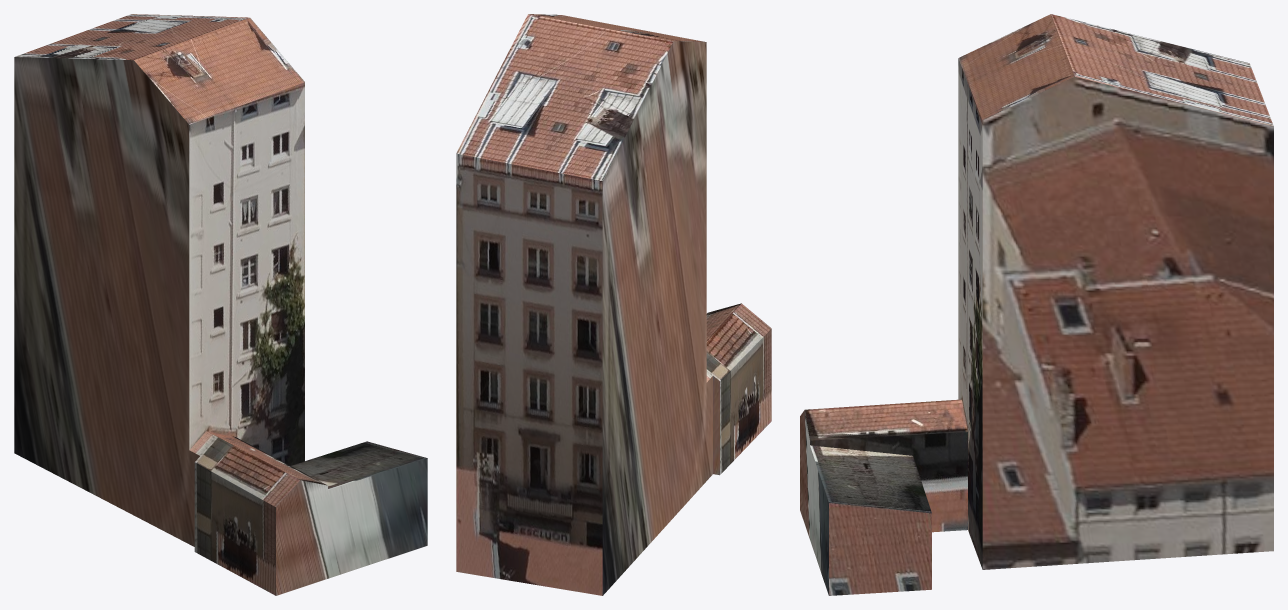
The picture shows the model from 3 angles, left to right: view 1: azimuth 30°, elevation 25°; view 2: azimuth 150°, elevation 25°; view 3: azimuth 270°, elevation 25°; orthographic projection. The views are drawn at different scales.
Visible parts, largest first — view 1: Z_UP; view 2: Z_UP; view 3: Z_UP.
Boxes of the visible parts, x1,y1,x2,y2 form: Z_UP: (14,14,427,595); Z_UP: (456,14,771,595); Z_UP: (800,14,1273,595).
Bounding box in the file's own units: 13.63 × 27.75 × 24.46.
Materials: 2 (1 with a texture image).
